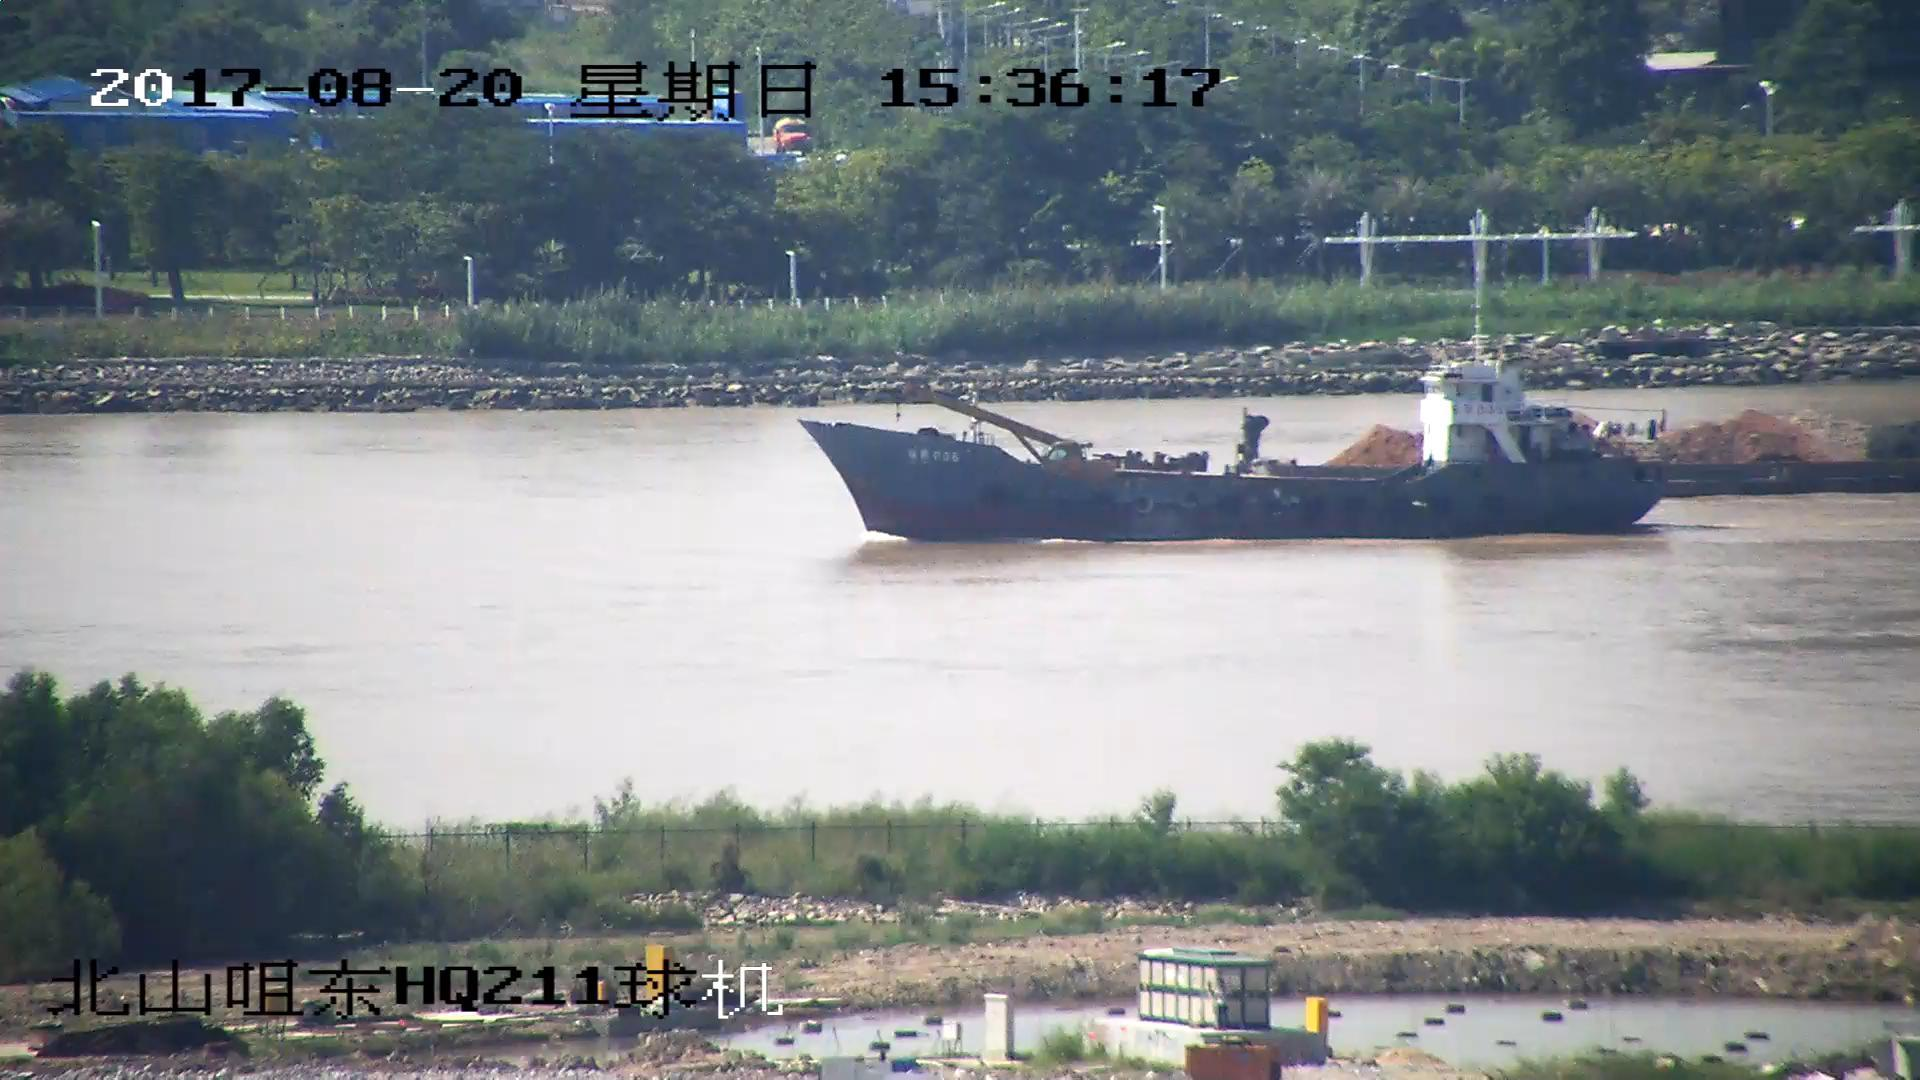Ship: (796, 247, 1668, 543), (1255, 404, 1920, 504)
